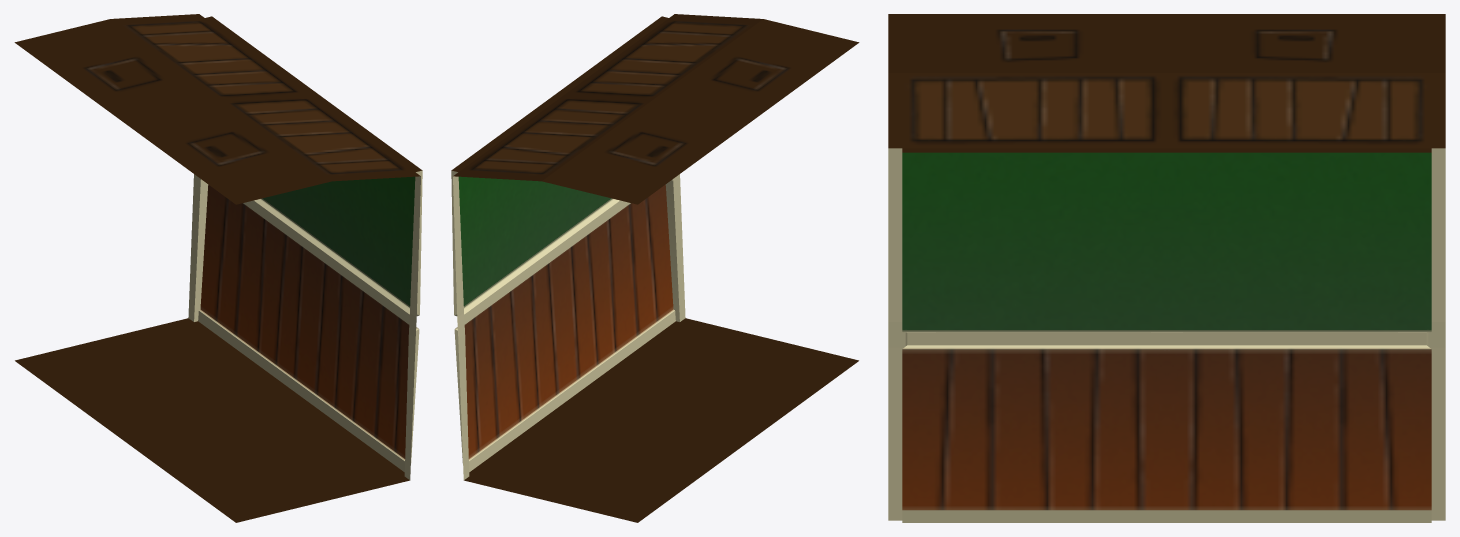
Rendered from Straight_Through.fbx.
3 renders of one model, left to right at view 1: azimuth 30°, elevation 25°; view 2: azimuth 150°, elevation 25°; view 3: azimuth 270°, elevation 25°, orthographic. The views are drawn at different scales.
Visible parts, largest first — view 1: Straight_Through; view 2: Straight_Through; view 3: Straight_Through.
Part boxes in pixels (x1,y1,x2,y2): Straight_Through: (14, 14, 422, 522); Straight_Through: (451, 14, 859, 522); Straight_Through: (888, 14, 1445, 522).
Size of the model in its own units: 2 by 3.17 by 4.
